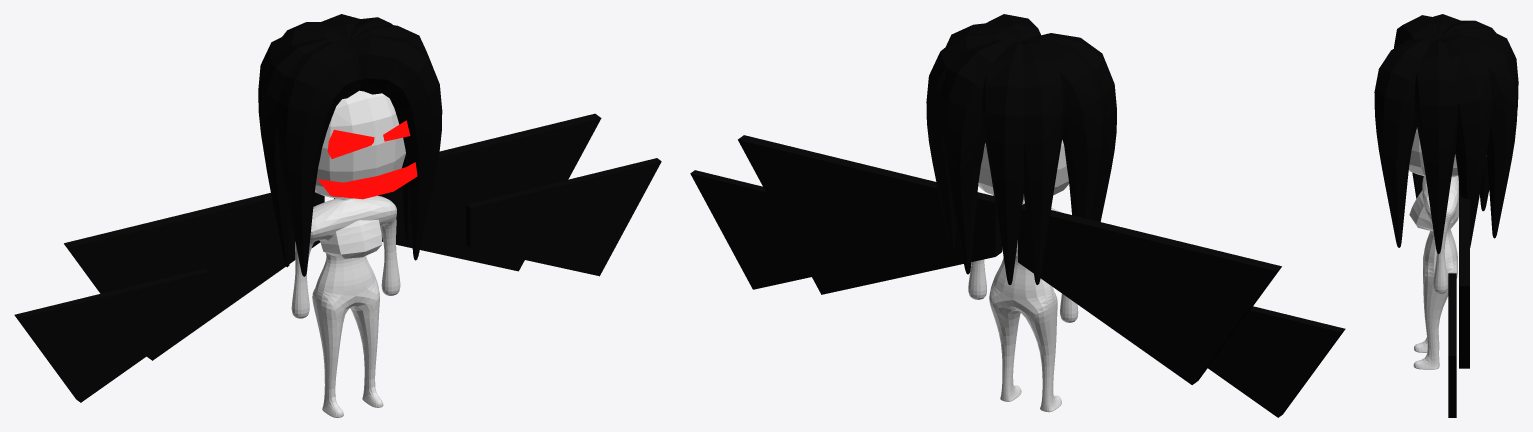
The model's file is гура.fbx.
The picture shows the model from 3 angles, left to right: view 1: azimuth 30°, elevation 25°; view 2: azimuth 150°, elevation 25°; view 3: azimuth 270°, elevation 25°; orthographic projection. The views are drawn at different scales.
Visible parts, largest first — view 1: Cube; view 2: Cube; view 3: Cube.
Part boxes in pixels (x1,y1,x2,y2): Cube: [14, 14, 661, 417]; Cube: [690, 14, 1345, 417]; Cube: [1374, 14, 1518, 417].
Bounding box in the file's own units: 504 × 276 × 110.
